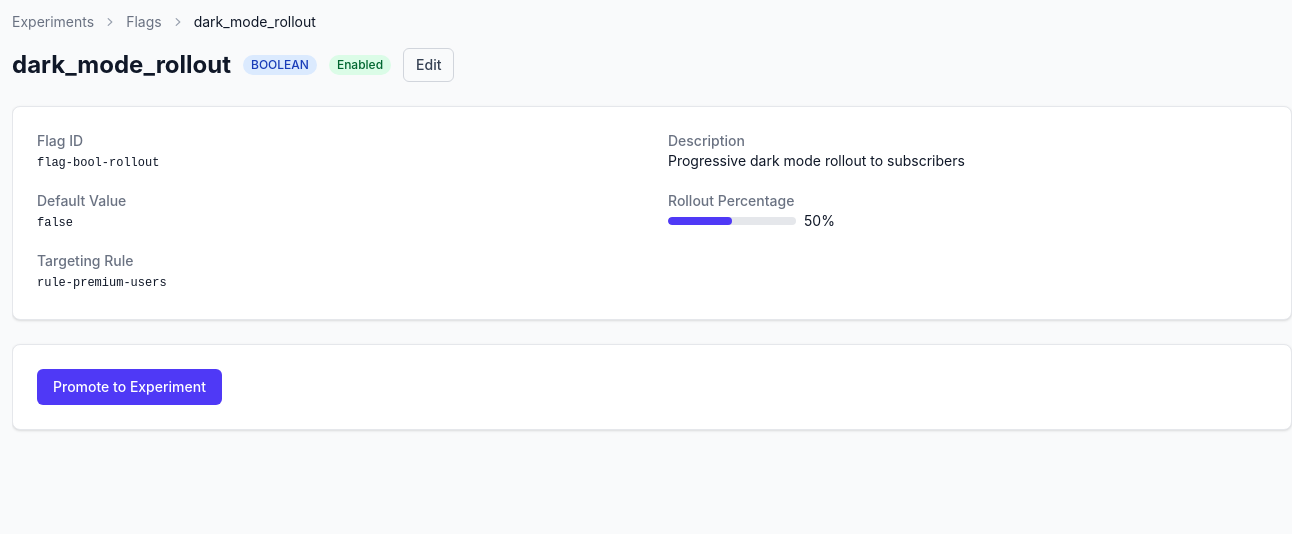
Flag Detail Page › shows promote error on failure
Expected: the heading "dark_mode_rollout" is shown, [12,49,231,81]
Click the button with test id "promote-button": (129, 387) [37,369,222,405]
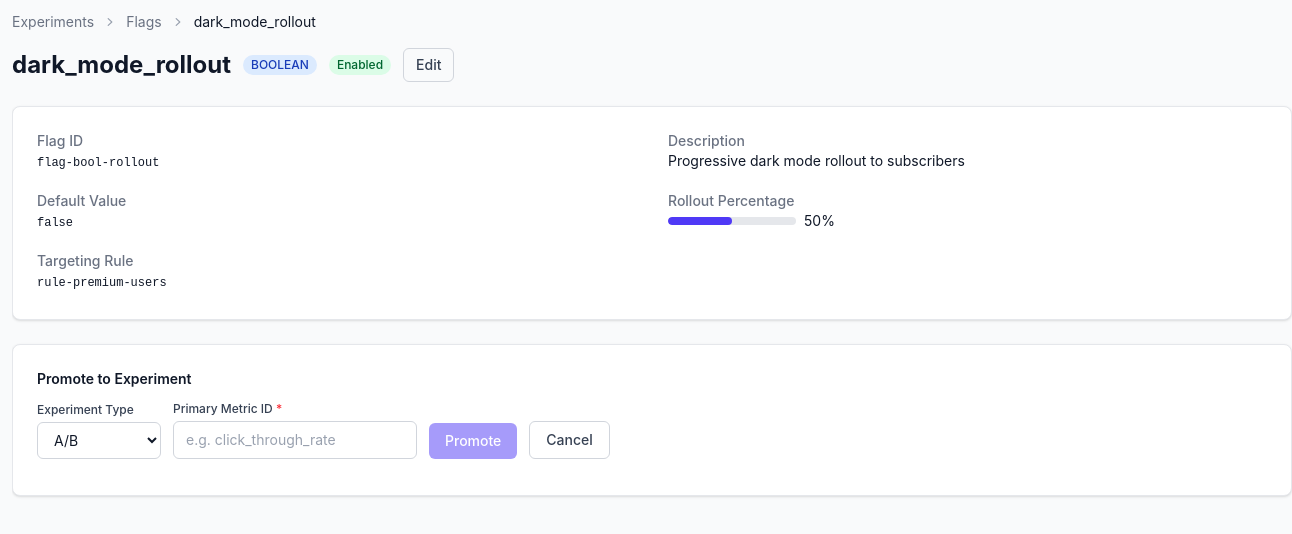
In the field with test id "promote-metric-id": (295, 440) [173,421,417,459], type "ctr"
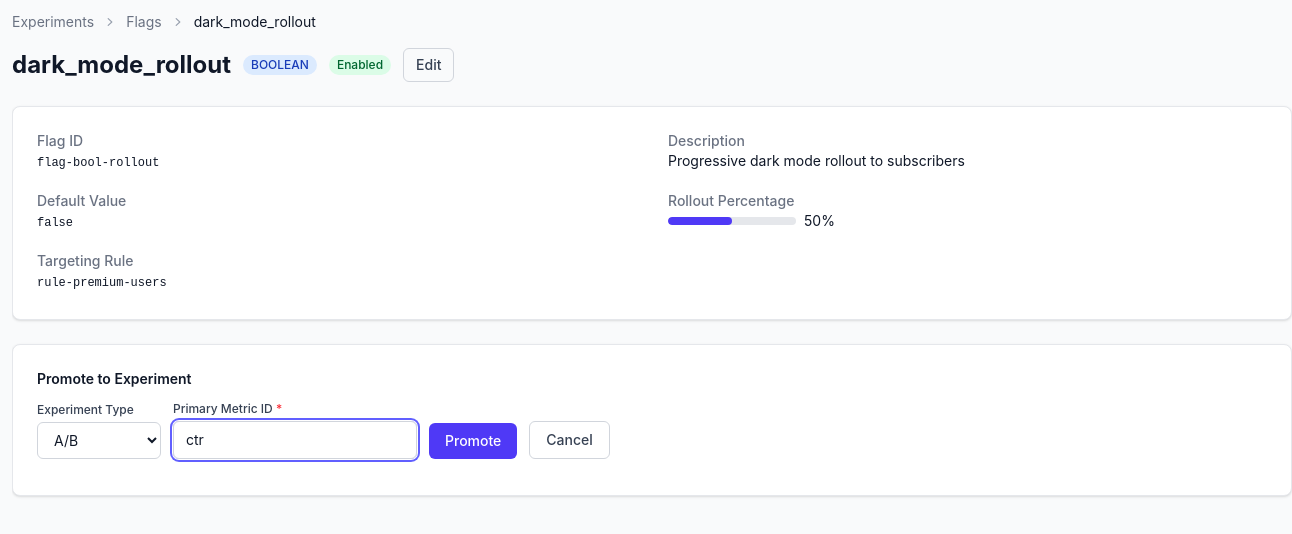
Click the button with test id "promote-submit": (473, 441) [429,423,517,459]
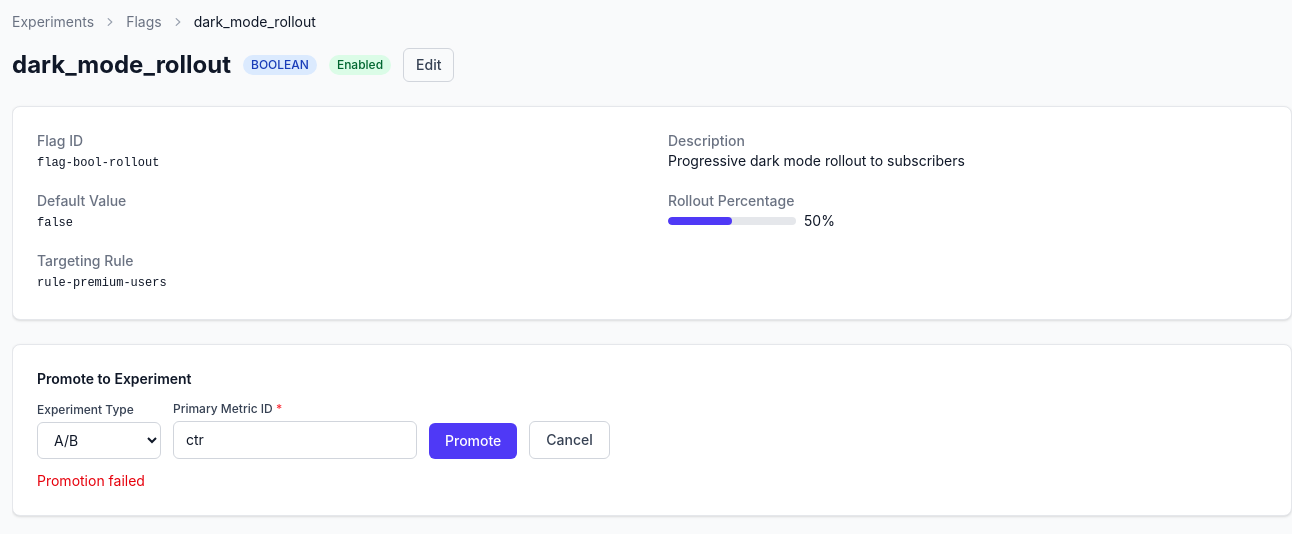
Expected: the text "Promotion failed" is shown, [37,472,145,489]
